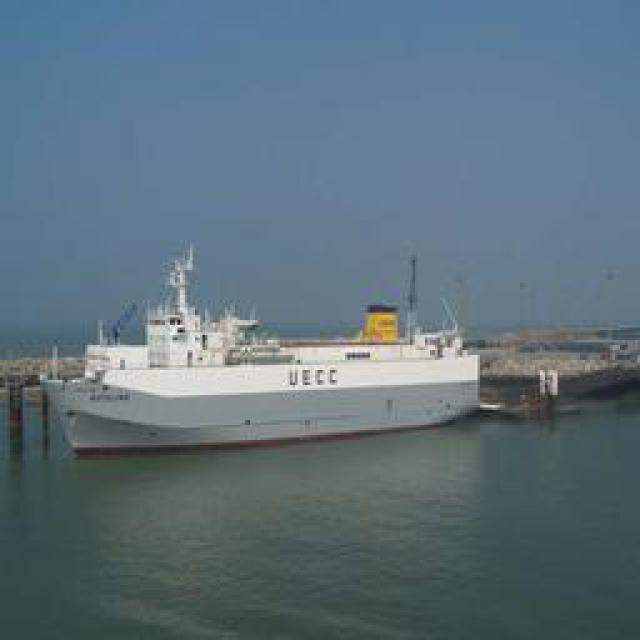Ship: (46, 252, 479, 460)
